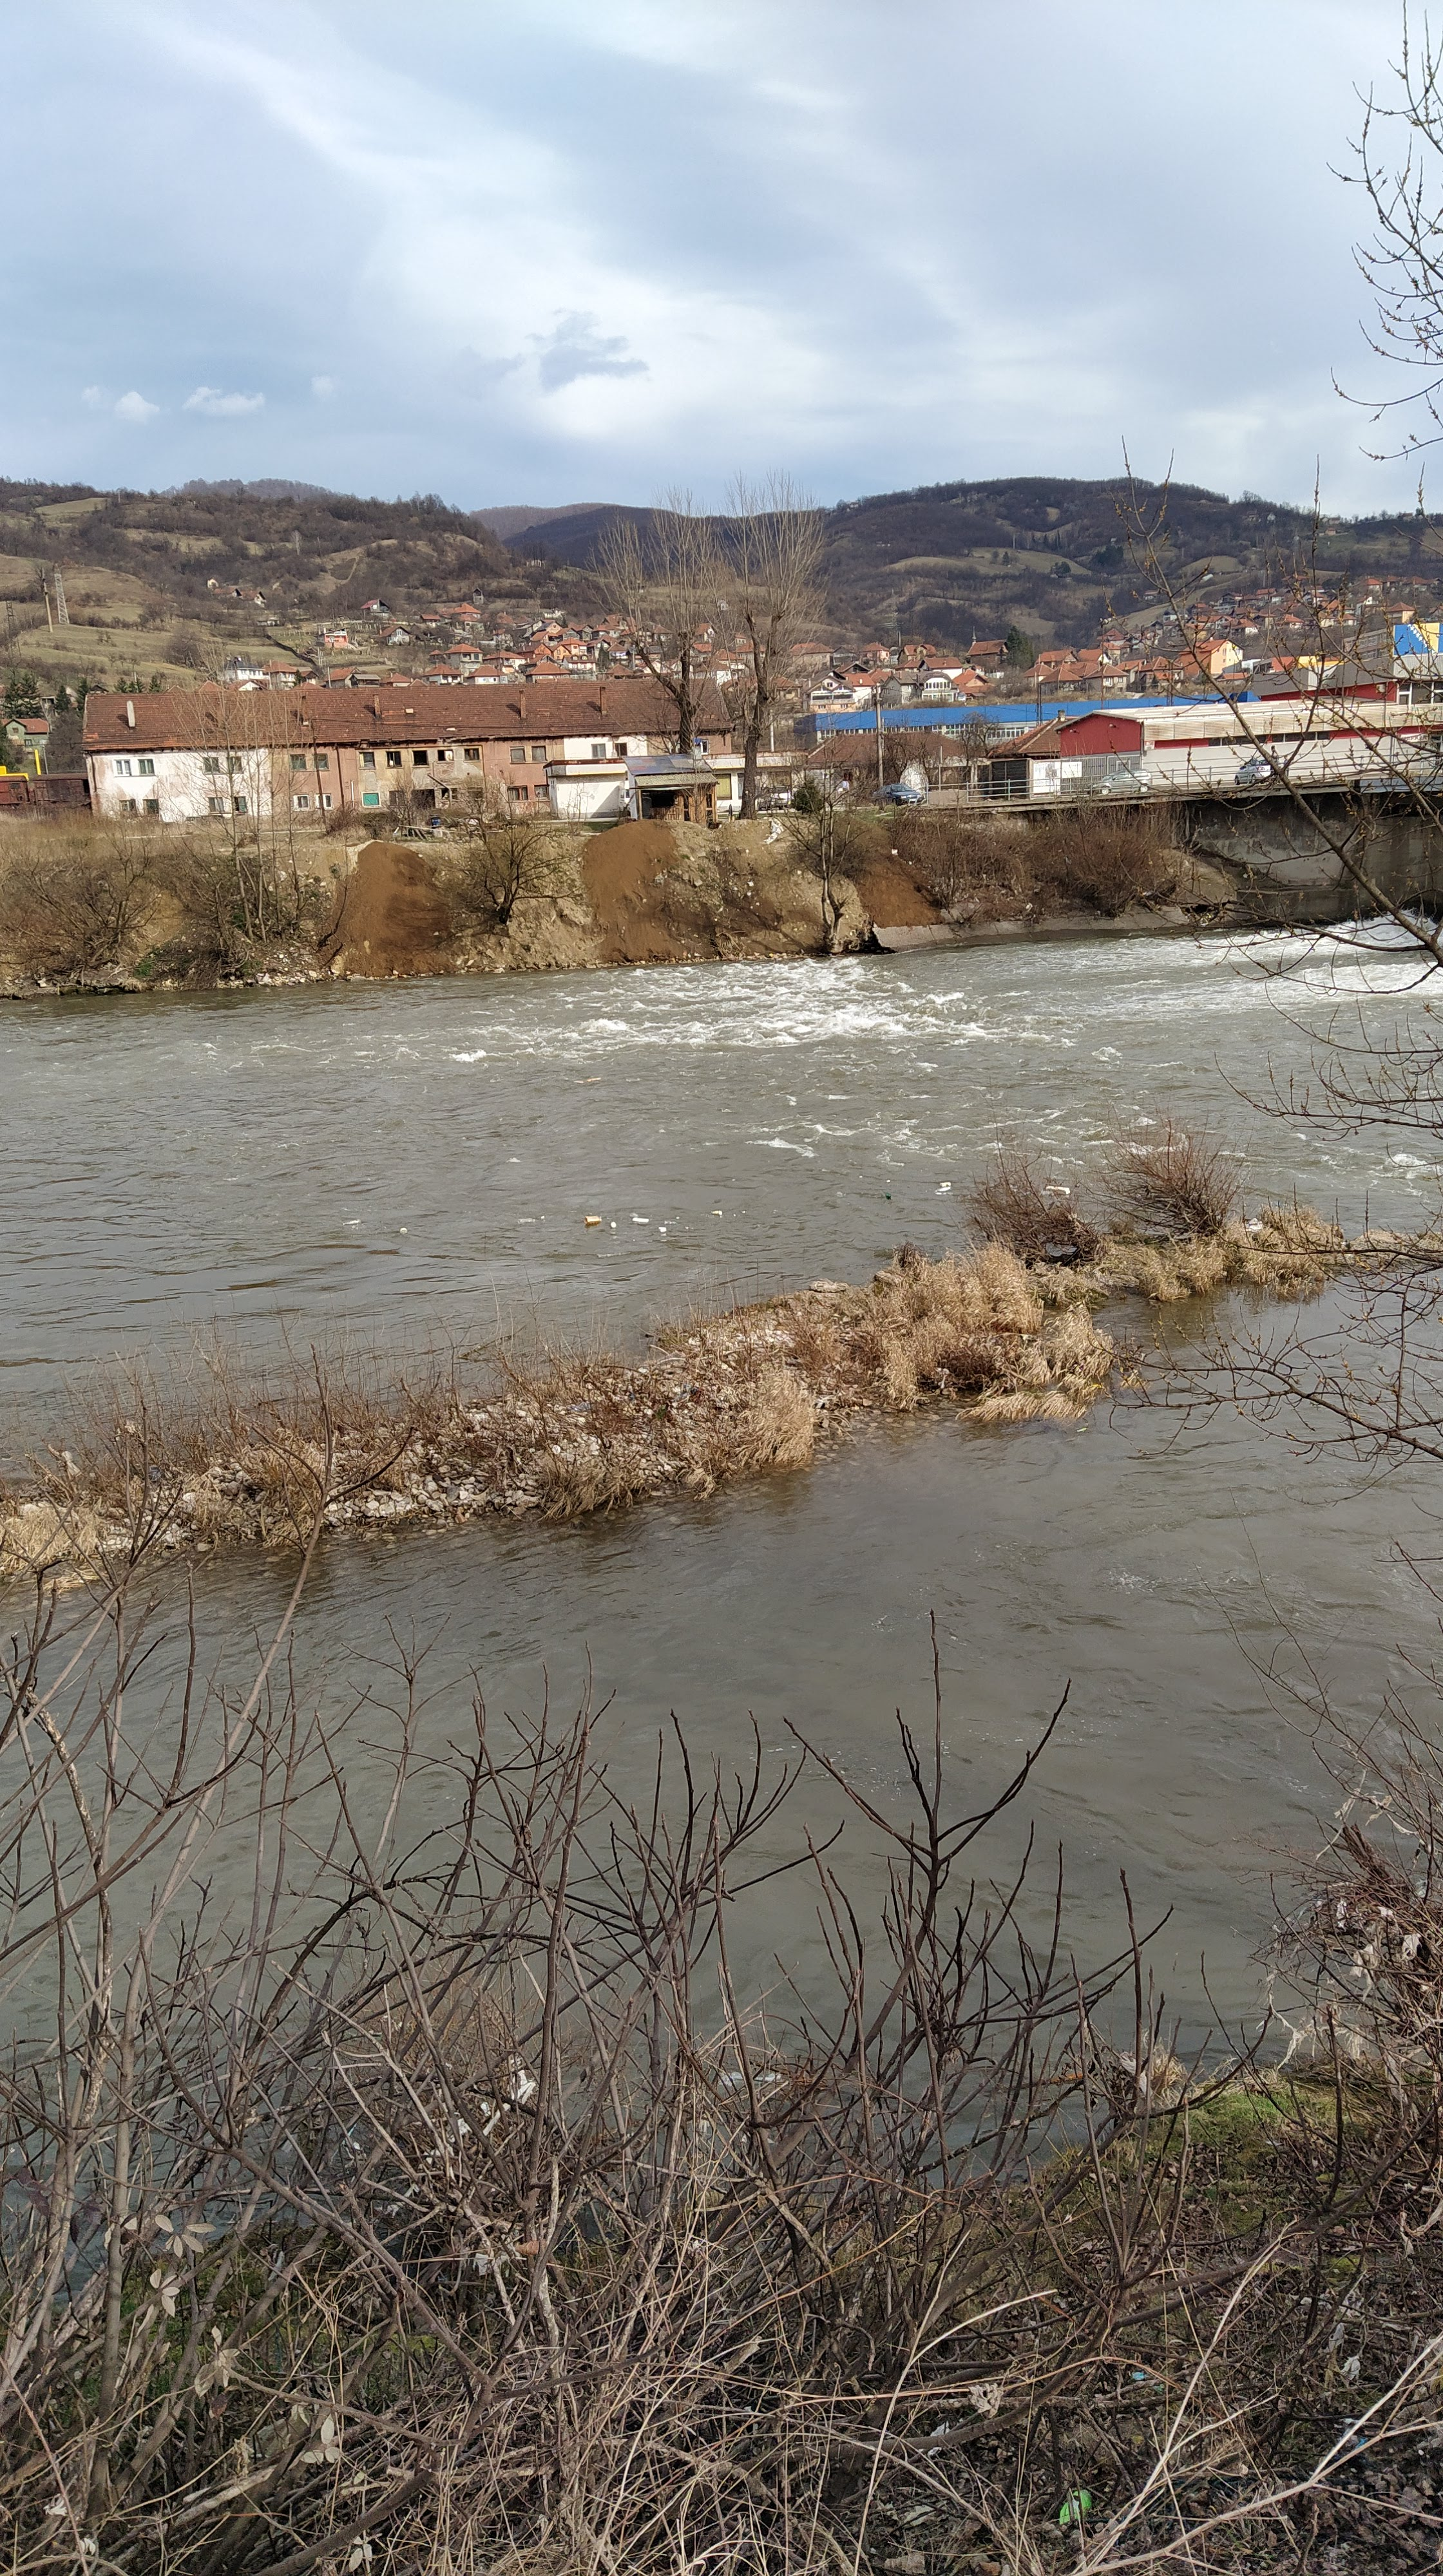Plastic Bottle: (584, 1215, 602, 1224), (1055, 1185, 1071, 1194), (343, 1219, 361, 1224), (519, 1217, 535, 1223), (634, 1217, 648, 1223), (937, 1185, 951, 1191), (1248, 1217, 1257, 1224), (712, 1210, 722, 1215), (400, 1226, 407, 1233), (666, 1221, 676, 1224), (611, 1221, 616, 1226), (885, 1192, 891, 1198)
